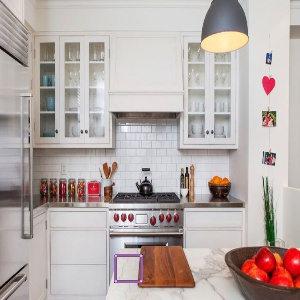square: (111, 252, 145, 284)
